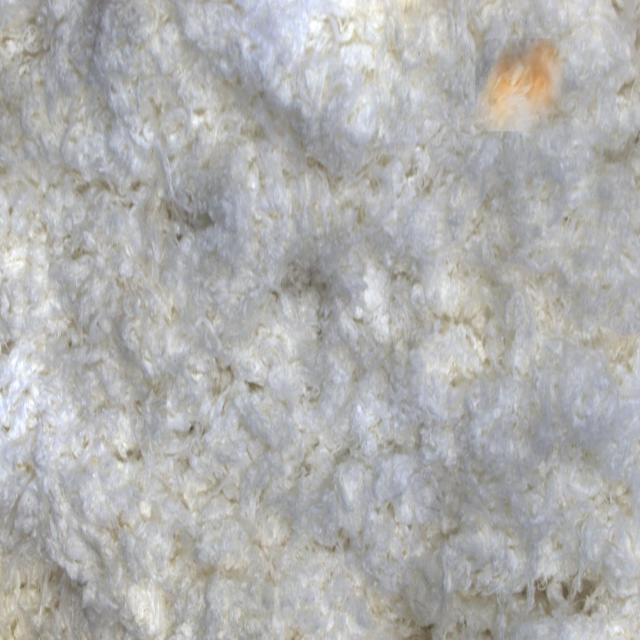dust: (476, 39, 567, 132)
